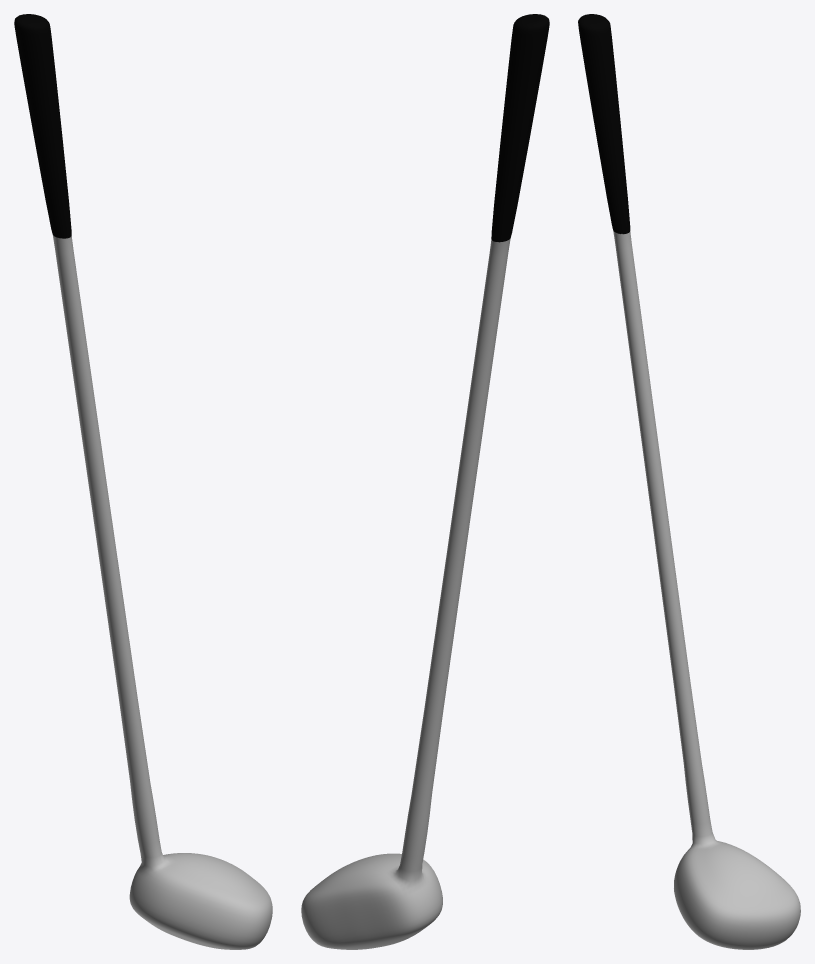
File: Golf_Driver.glb
The picture shows the model from 3 angles, left to right: view 1: azimuth 30°, elevation 25°; view 2: azimuth 150°, elevation 25°; view 3: azimuth 330°, elevation 25°; orthographic projection. The views are drawn at different scales.
Visible parts, largest first — view 1: Sphere.005; view 2: Sphere.005; view 3: Sphere.005.
Boxes of the visible parts, x1,y1,x2,y2 form: Sphere.005: [14, 14, 272, 949]; Sphere.005: [301, 14, 549, 949]; Sphere.005: [578, 14, 800, 949].
Size of the model in its own units: 0.2618 by 0.9984 by 0.1158.
Materials: 1 (1 with a texture image).
